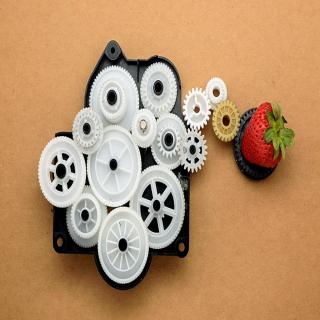Strawberry: (238, 104, 290, 177)
